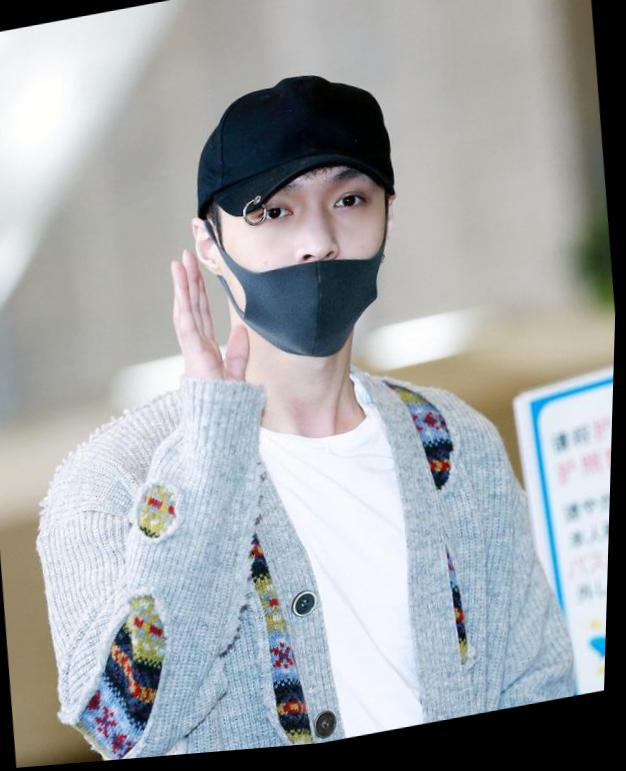WRONG: (214, 125, 405, 387)
